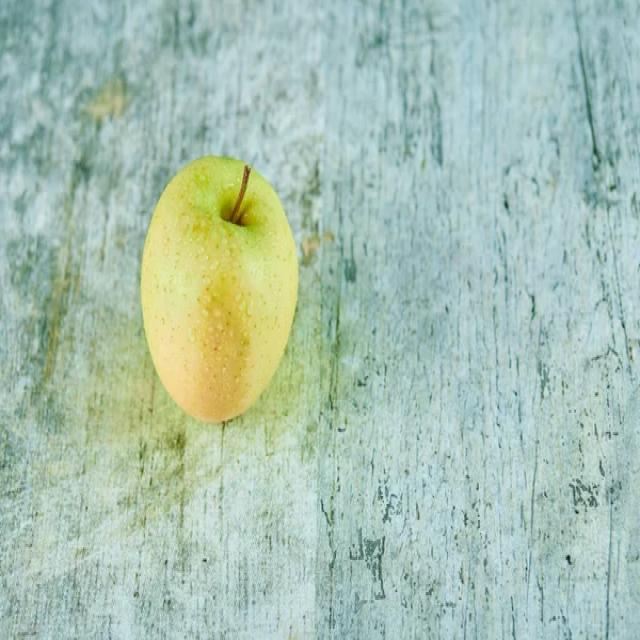Fresh Apple: (135, 172, 290, 406)
